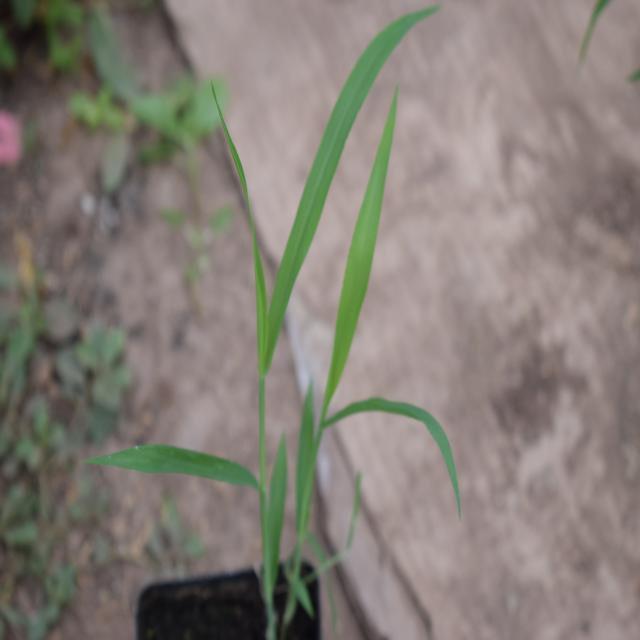crabgrass: (149, 68, 465, 610)
